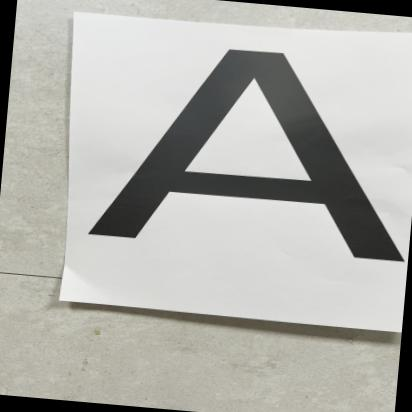seat: (73, 20, 412, 285)
